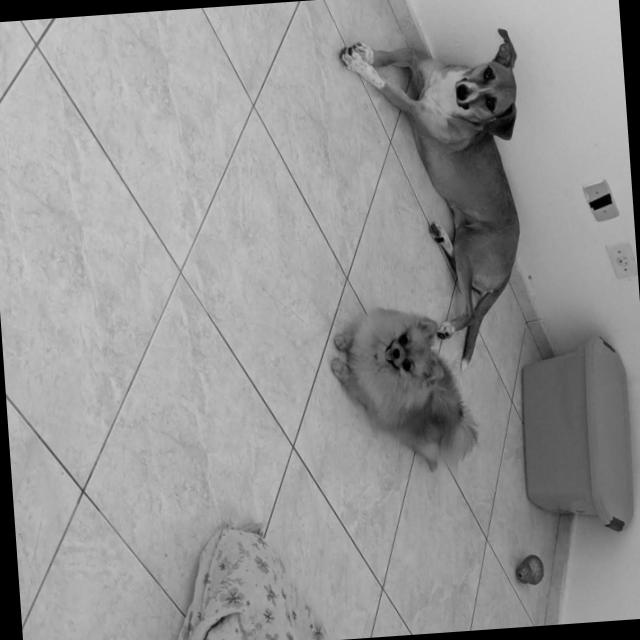laying down: (338, 5, 542, 376), (326, 292, 480, 483)
